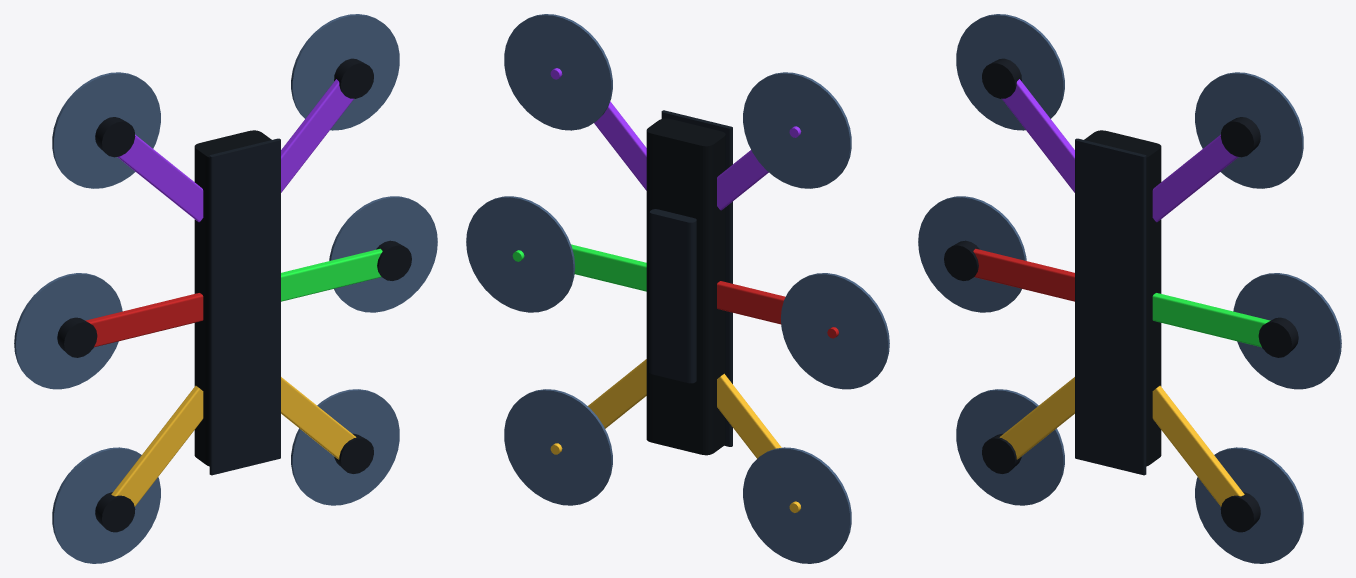
Rendered from fpv_hexarotor.obj.
3 renders of one model, left to right at view 1: azimuth 30°, elevation 25°; view 2: azimuth 150°, elevation 25°; view 3: azimuth 330°, elevation 25°, orthographic.
Parts seen in each view (by area): view 1: prop_grey_5, body_mid_1, motor_dark_3, yellow_metal_8, purple_metal_2, body_dark_0, red_metal_6, green_metal_7; view 2: prop_grey_5, body_dark_0, body_mid_1, yellow_metal_8, purple_metal_2, green_metal_7, red_metal_6; view 3: prop_grey_5, body_mid_1, motor_dark_3, yellow_metal_8, purple_metal_2, body_dark_0, green_metal_7, red_metal_6.
Boxes of the visible parts, bbox=[...] form: prop_grey_5: bbox=[14, 14, 437, 563]; body_mid_1: bbox=[209, 138, 280, 475]; motor_dark_3: bbox=[57, 58, 411, 532]; yellow_metal_8: bbox=[111, 377, 356, 506]; purple_metal_2: bbox=[117, 79, 353, 222]; body_dark_0: bbox=[194, 130, 271, 466]; red_metal_6: bbox=[85, 293, 203, 347]; green_metal_7: bbox=[281, 248, 382, 301]; prop_grey_5: bbox=[466, 14, 889, 563]; body_dark_0: bbox=[646, 118, 725, 455]; body_mid_1: bbox=[649, 110, 732, 446]; yellow_metal_8: bbox=[550, 359, 800, 512]; purple_metal_2: bbox=[550, 68, 801, 210]; green_metal_7: bbox=[512, 244, 646, 291]; red_metal_6: bbox=[717, 281, 838, 338]; prop_grey_5: bbox=[918, 14, 1341, 563]; body_mid_1: bbox=[1075, 138, 1146, 475]; motor_dark_3: bbox=[944, 58, 1298, 532]; yellow_metal_8: bbox=[999, 377, 1244, 506]; purple_metal_2: bbox=[1002, 79, 1238, 222]; body_dark_0: bbox=[1084, 130, 1161, 466]; green_metal_7: bbox=[1152, 293, 1270, 347]; red_metal_6: bbox=[973, 248, 1074, 301].
Size of the model in its own units: 0.8648 by 0.9537 by 0.1001.
